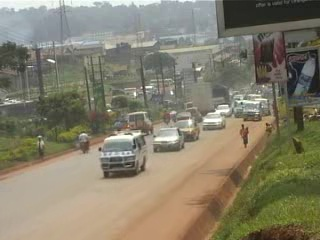Car: (151, 125, 186, 155), (124, 111, 155, 137), (173, 118, 203, 142), (200, 111, 227, 131), (183, 105, 204, 124), (174, 110, 194, 124), (213, 103, 232, 117)
Motorcycle: (75, 128, 91, 154), (159, 107, 171, 125), (168, 106, 178, 123)
